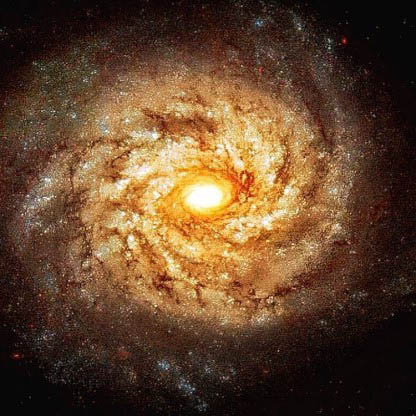NGC 3982: (9, 33, 395, 382)
